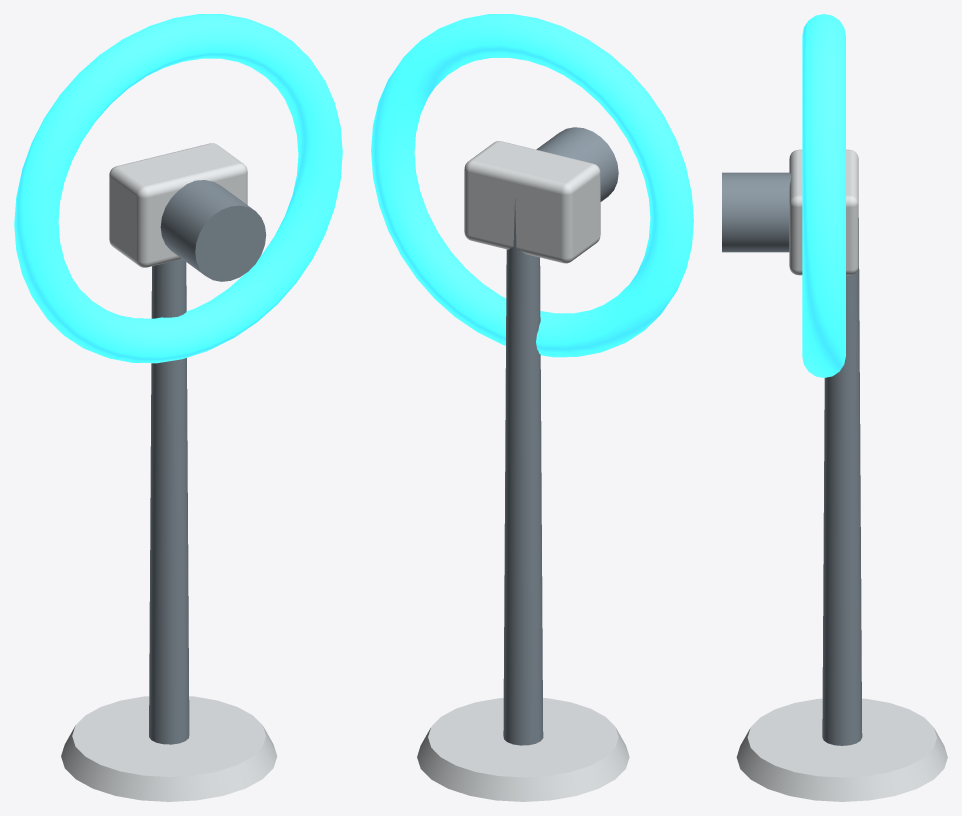
Rendered from atelier-gaming-keylight-arctic.glb.
The picture shows the model from 3 angles, left to right: view 1: azimuth 30°, elevation 25°; view 2: azimuth 150°, elevation 25°; view 3: azimuth 270°, elevation 25°; orthographic projection. The views are drawn at different scales.
Bounding box in the file's own units: 0.2 × 0.44 × 0.124.
